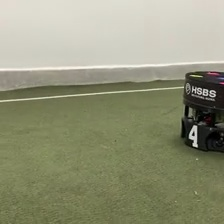robot: (179, 70, 224, 154)
